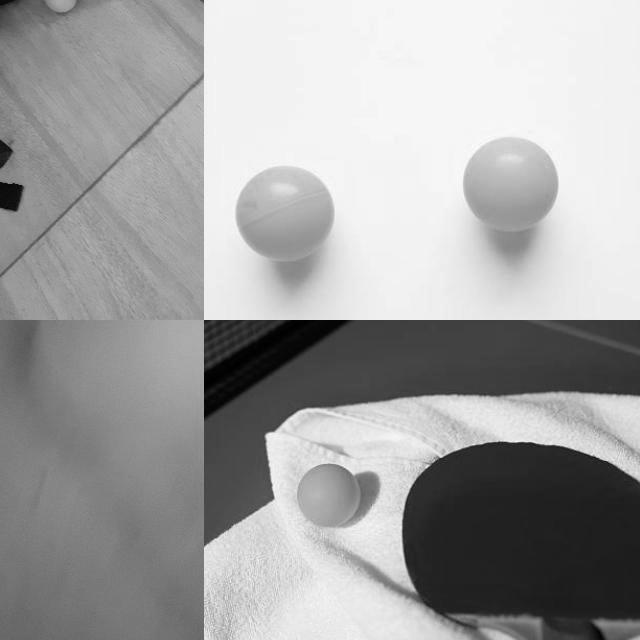ping-pong-ball: (30, 320, 203, 456), (463, 134, 559, 233), (236, 164, 330, 260), (294, 464, 360, 526), (43, 0, 77, 12)
